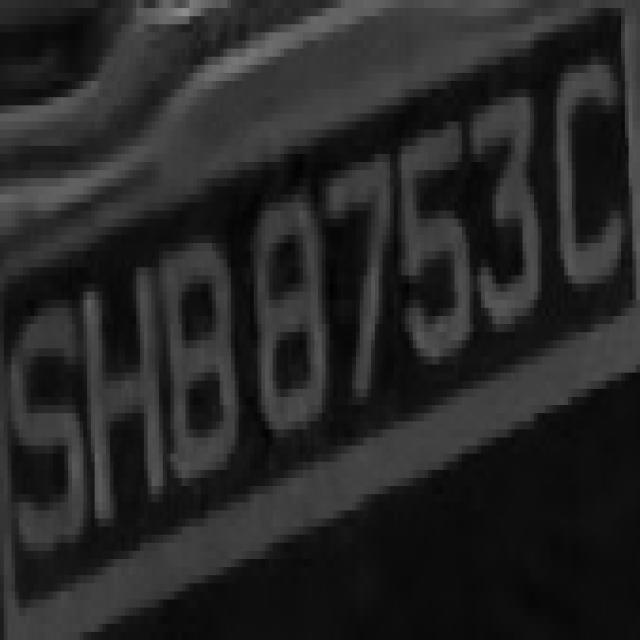3: (462, 98, 553, 348)
5: (386, 97, 477, 397)
7: (318, 146, 402, 421)
8: (242, 162, 330, 470)
B: (152, 219, 238, 502)
C: (538, 57, 628, 308)
H: (80, 259, 170, 559)
S: (15, 300, 91, 583)
